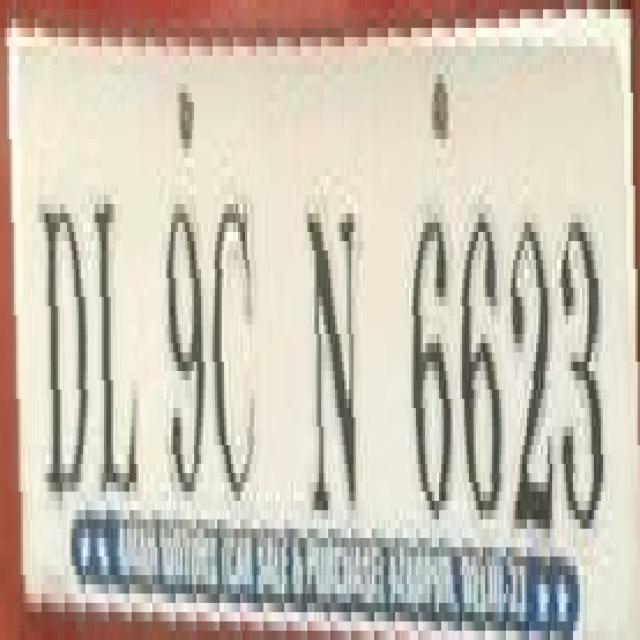license_plate: (5, 18, 605, 603)
